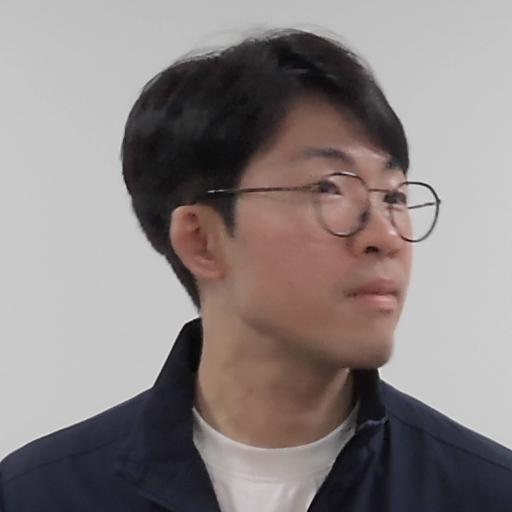no_glasses: (134, 28, 453, 377)
